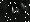person: (14, 5, 20, 16), (22, 2, 27, 15)
